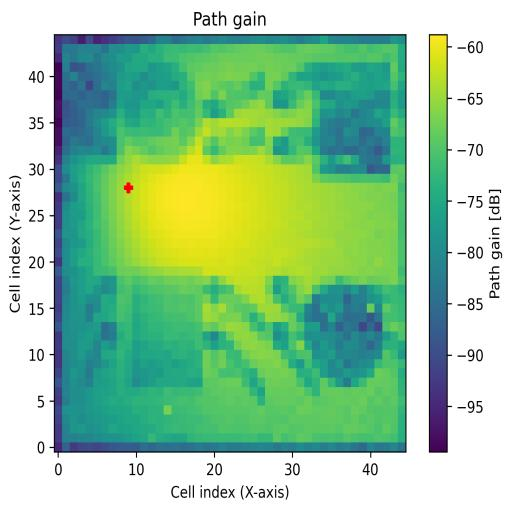Concrete: (311, 63, 391, 182)
Glass: (126, 62, 195, 164)
Metal: (304, 276, 384, 388)
Wood: (132, 266, 202, 386)
